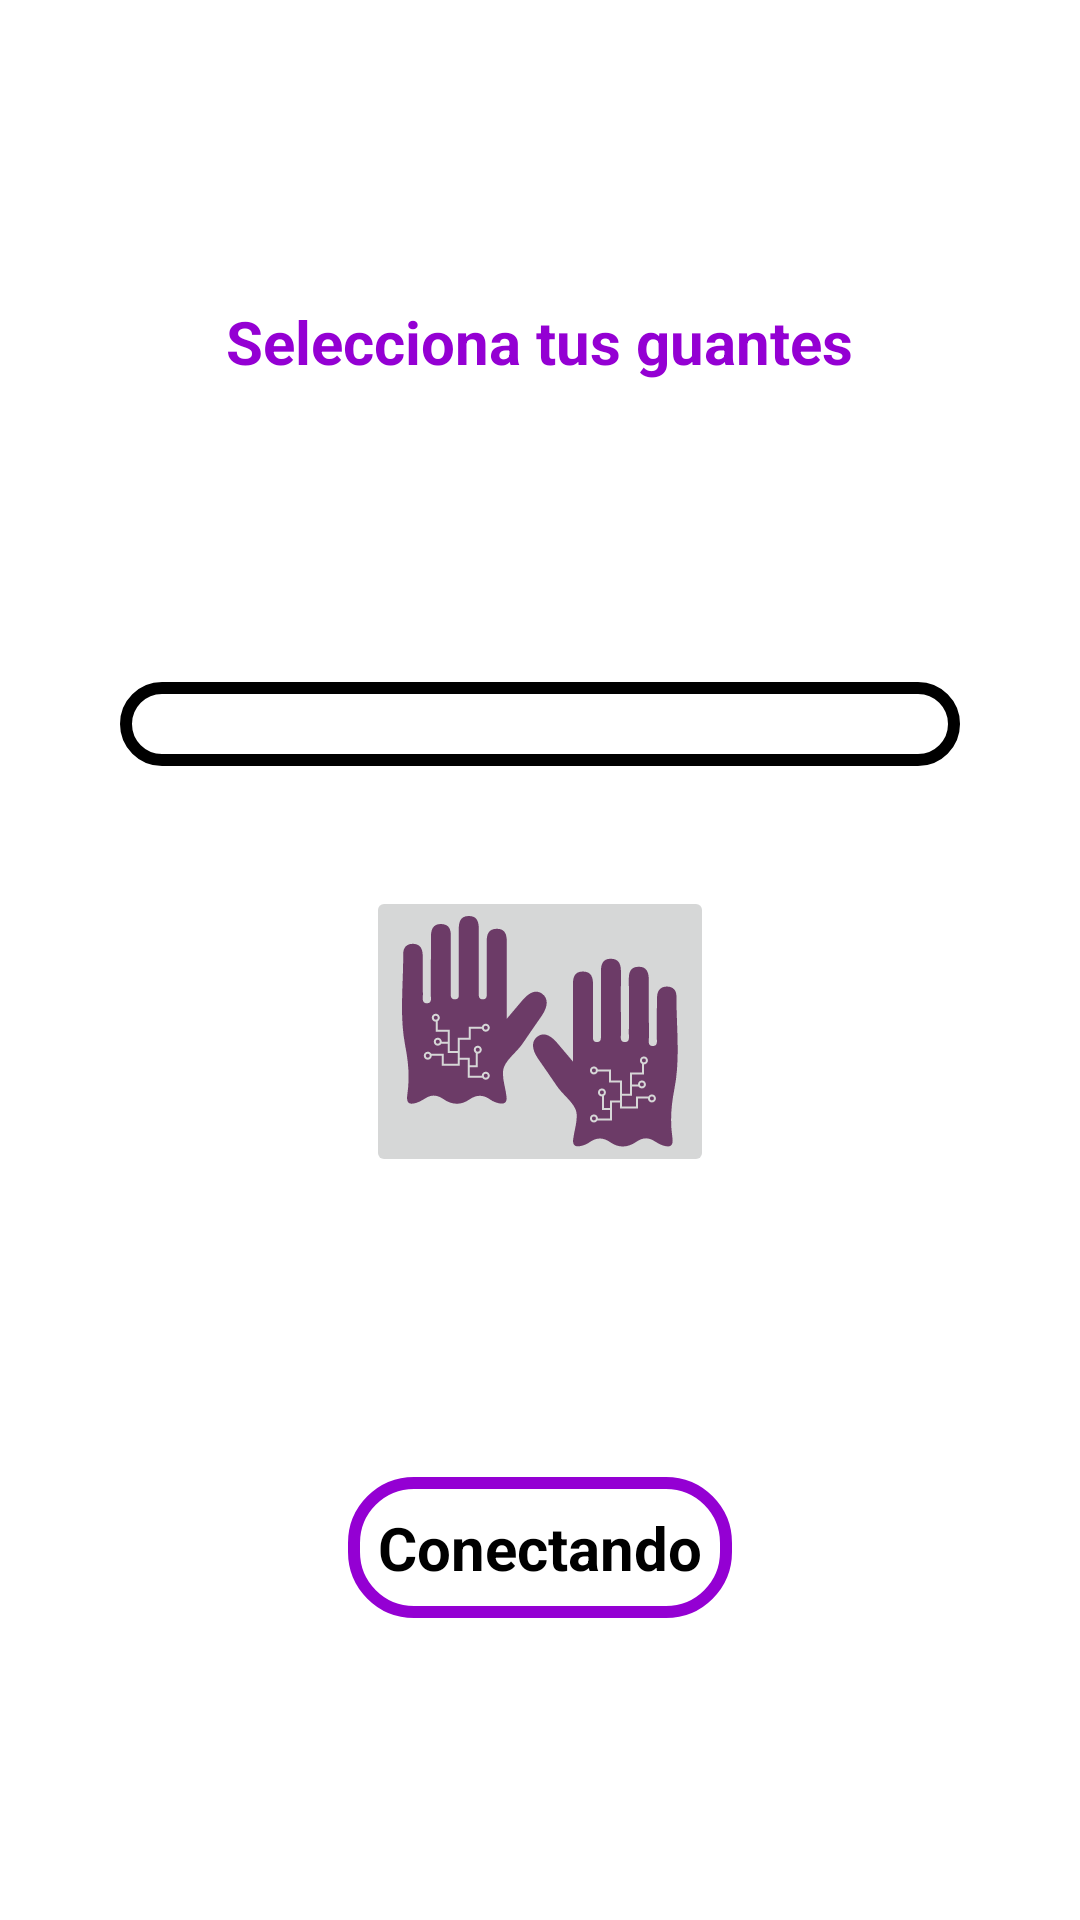

Point at icon controls on the screen. Image size 1080*1920, points as [x,y].
icnguantes: [540,1031]
